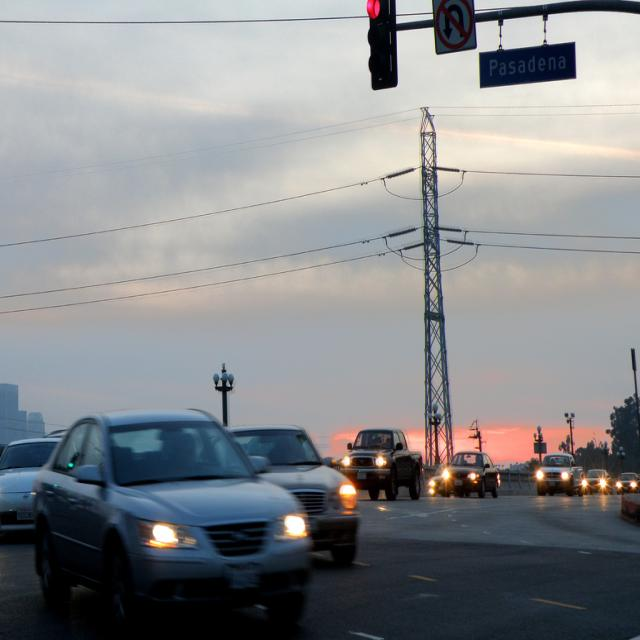car: (434, 453, 502, 496), (531, 449, 581, 489), (577, 464, 610, 486), (614, 470, 639, 490)
